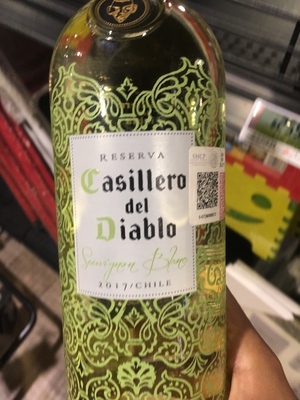casillero del diablo sauvignon blanc: (38, 9, 235, 374)
